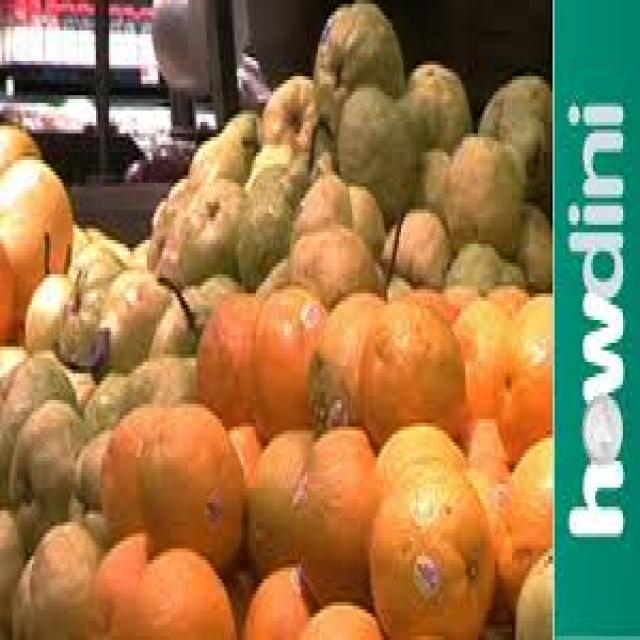organic waste: (367, 457, 493, 636), (137, 400, 243, 579), (356, 290, 463, 453), (290, 419, 376, 606), (312, 0, 403, 141), (6, 392, 86, 548), (248, 282, 324, 446), (333, 80, 420, 217), (0, 347, 70, 503), (0, 152, 70, 304), (476, 64, 550, 206), (243, 423, 312, 575), (305, 289, 380, 426), (491, 290, 550, 464), (495, 431, 550, 617), (123, 545, 234, 636), (448, 293, 514, 446), (367, 423, 461, 529), (442, 134, 520, 252), (235, 164, 303, 289), (28, 518, 98, 636), (98, 400, 158, 537), (192, 286, 250, 419), (290, 225, 384, 305), (147, 278, 235, 358), (98, 270, 171, 366), (88, 530, 147, 636), (177, 172, 237, 274), (378, 202, 448, 289), (237, 556, 311, 636), (256, 72, 314, 164), (403, 53, 474, 126), (68, 426, 109, 544), (456, 411, 510, 499), (21, 263, 75, 350), (288, 171, 352, 244), (120, 354, 197, 412), (205, 107, 258, 183), (508, 198, 550, 290), (397, 141, 450, 213), (512, 541, 550, 636), (56, 286, 100, 366), (0, 503, 26, 636), (294, 598, 380, 636), (442, 240, 501, 293), (243, 141, 310, 187), (348, 179, 386, 255), (77, 370, 117, 438), (408, 282, 458, 331), (224, 419, 265, 472), (0, 118, 38, 175), (85, 221, 130, 267), (254, 248, 290, 304), (9, 549, 32, 636), (77, 248, 117, 293), (486, 286, 527, 324), (0, 240, 15, 339), (186, 130, 213, 179), (158, 240, 183, 282), (149, 195, 177, 232), (128, 236, 151, 278), (497, 251, 525, 282), (145, 232, 162, 274), (68, 221, 81, 259), (164, 176, 190, 194)
